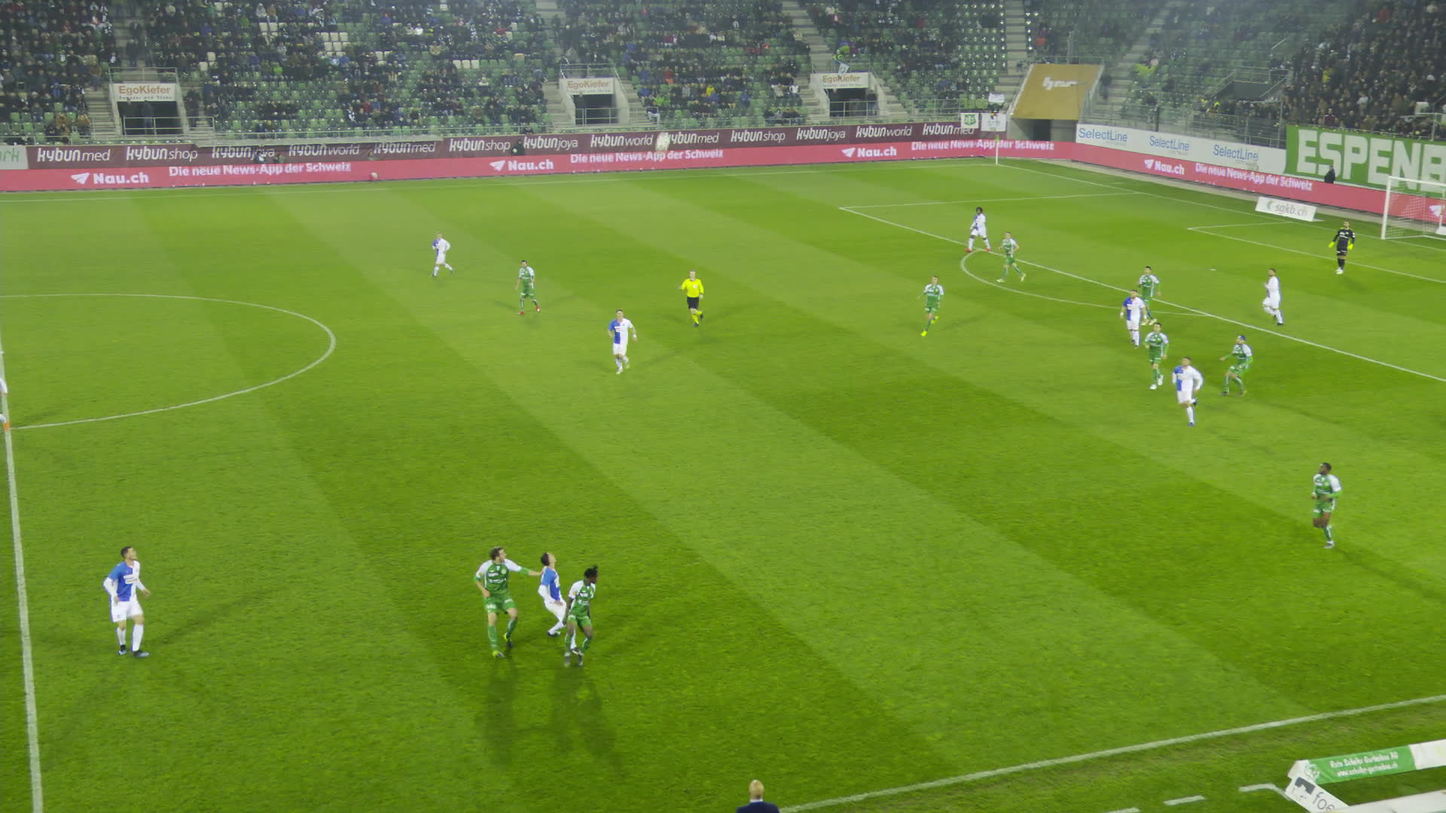ball: (656, 132, 671, 152)
player: (473, 547, 546, 659), (94, 543, 154, 658), (532, 550, 577, 650), (560, 565, 602, 668), (1309, 461, 1341, 550), (1170, 355, 1203, 427), (1219, 335, 1253, 397), (911, 276, 944, 336), (607, 306, 635, 375), (1143, 321, 1168, 388), (1119, 289, 1146, 349), (995, 232, 1026, 282), (1136, 265, 1161, 325), (1328, 220, 1355, 275), (514, 258, 539, 314), (1260, 268, 1283, 327), (426, 232, 454, 279), (965, 206, 990, 253)
referee: (678, 269, 703, 328)
